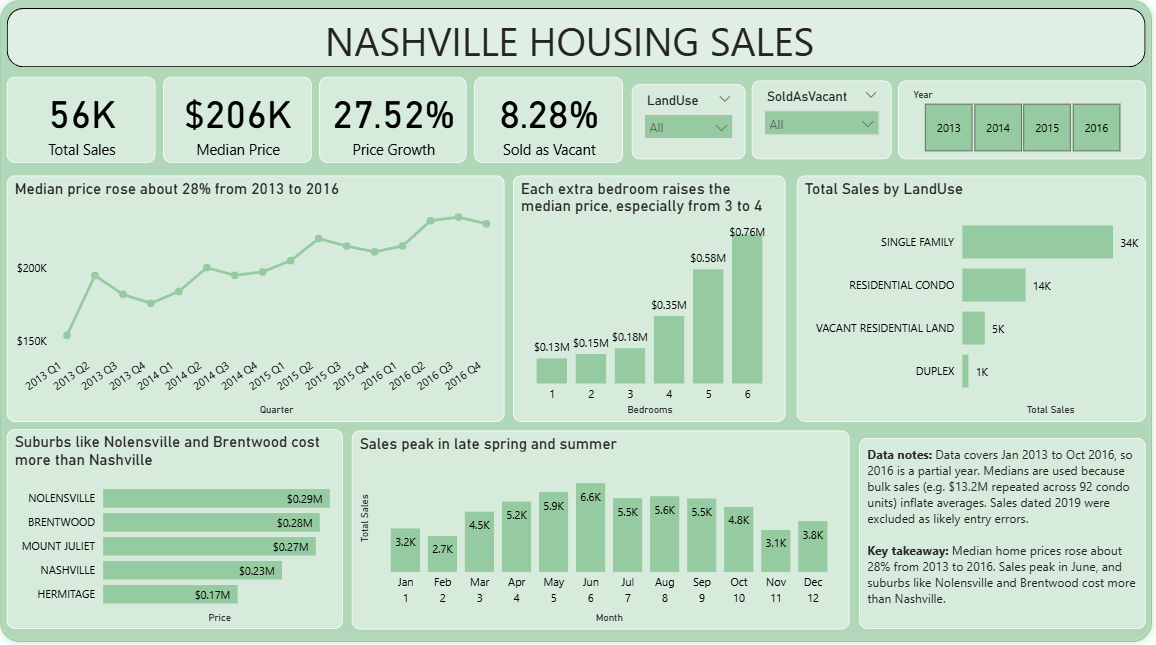

The dashboard page shown, as its layout file describes it:
{"tool":"powerbi","page":{"name":"Page 1","canvas":[1280,720],"ordinal":0},"visuals":[{"type":"shape","box":[0,0,1280.3,720.4],"z":0},{"type":"shape","box":[15,16.7,1250,65],"z":1000},{"type":"textbox","box":[359.4,17.2,560.9,89.1],"z":2000},{"type":"card","fields":{"Values":["All measures.Total Sales"]},"box":[15.1,91.9,163.3,94.7],"z":3000},{"type":"card","fields":{"Values":["All measures.Sold as Vacant"]},"box":[528.3,91.9,163.3,94.7],"z":4000},{"type":"card","fields":{"Values":["All measures.Median Price"]},"box":[186.6,91.9,163.3,94.7],"z":5000},{"type":"card","fields":{"Values":["All measures.Price Growth"]},"box":[358.1,91.9,161.9,94.7],"z":6000},{"type":"lineChart","title":"Median price rose about 28% from 2013 to 2016","fields":{"Y":["All measures.Median Price"],"Category":["Housing.Quarter"]},"box":[15.1,200.3,546.1,270.3],"z":7000},{"type":"columnChart","title":"Sales peak in late spring and summer","fields":{"Y":["All measures.Total Sales"],"Category":["Housing.Month","Housing.MonthName"]},"box":[393.8,480.3,546.1,218.2],"z":8000},{"type":"barChart","title":"Suburbs like Nolensville and Brentwood cost more than Nashville","fields":{"Y":["All measures.Median Price"],"Category":["Housing.PropertyCity"]},"box":[15.1,478.9,369.1,219.6],"z":9000},{"type":"columnChart","title":"Each extra bedroom raises the median price, especially from 3 to 4","fields":{"Category":["Housing.Bedrooms"],"Y":["All measures.Median Price"]},"box":[570.8,200.3,299.1,270.3],"z":10000},{"type":"barChart","fields":{"Category":["Housing.LandUse"],"Y":["All measures.Total Sales"]},"box":[882.3,200.3,382.8,270.3],"z":11000},{"type":"slicer","fields":{"Values":["Housing.Year"]},"box":[993.5,96.1,271.7,86.4],"z":12000},{"type":"slicer","fields":{"Values":["Housing.SoldAsVacant"]},"box":[832.9,96.1,153.7,86.4],"z":13000},{"type":"textbox","box":[950.9,488.5,314.2,209.9],"z":14000},{"type":"slicer","fields":{"Values":["Housing.LandUse"]},"box":[701.2,100.2,124.9,82.3],"z":15000}]}

Visuals, with their boxes in screenshot pixels (x1, y1, x2, y2), scaled from the page's 1280x720 canvas onto the 1156x645 screenshot:
shape: <box>0,0,1155,644</box>
shape: <box>14,15,1142,73</box>
textbox: <box>325,15,831,95</box>
card - All measures.Total Sales: <box>14,82,161,167</box>
card - All measures.Sold as Vacant: <box>477,82,625,167</box>
card - All measures.Median Price: <box>169,82,316,167</box>
card - All measures.Price Growth: <box>323,82,470,167</box>
"Median price rose about 28% from 2013 to 2016" lineChart: <box>14,179,507,422</box>
"Sales peak in late spring and summer" columnChart: <box>356,430,849,626</box>
"Suburbs like Nolensville and Brentwood cost more than Nashville" barChart: <box>14,429,347,626</box>
"Each extra bedroom raises the median price, especially from 3 to 4" columnChart: <box>516,179,786,422</box>
barChart - Housing.LandUse x All measures.Total Sales: <box>797,179,1143,422</box>
slicer - Housing.Year: <box>897,86,1143,163</box>
slicer - Housing.SoldAsVacant: <box>752,86,891,163</box>
textbox: <box>859,438,1143,626</box>
slicer - Housing.LandUse: <box>633,90,746,163</box>
